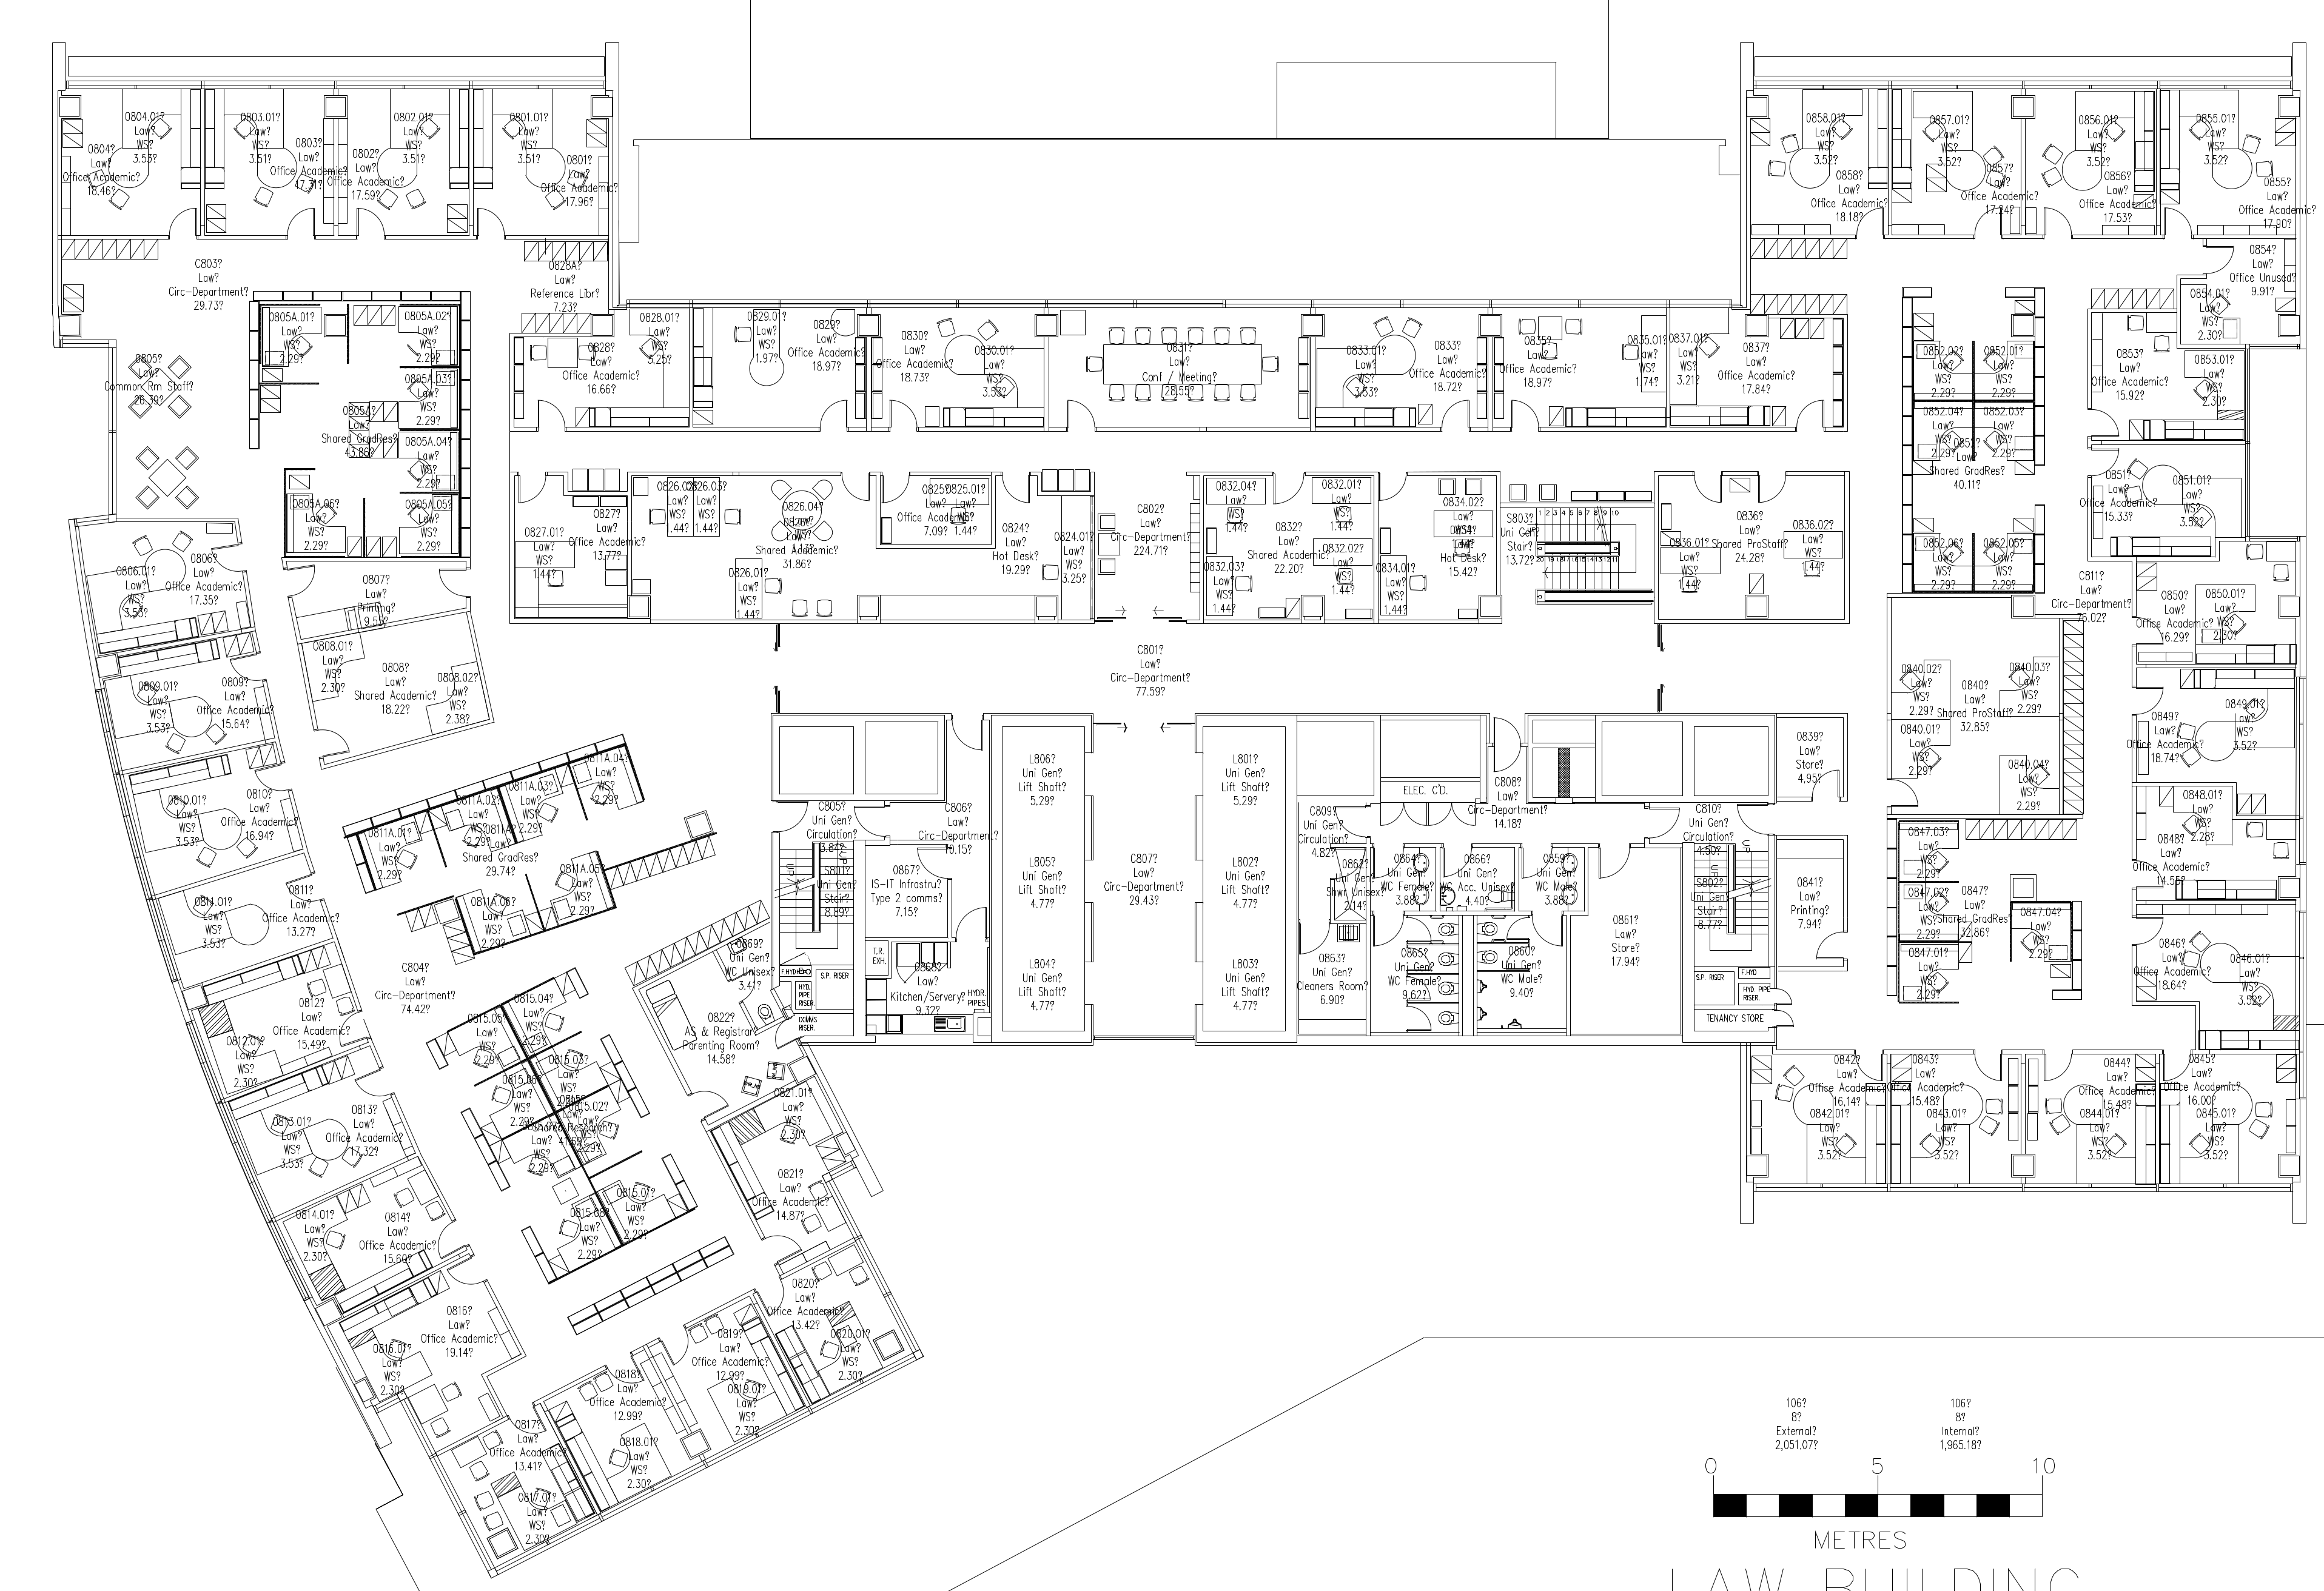door: (761, 1229, 807, 1266), (505, 1402, 547, 1441), (602, 1351, 645, 1390), (685, 1086, 729, 1121), (445, 1252, 486, 1289), (657, 1324, 690, 1369), (433, 1222, 466, 1263), (334, 1012, 369, 1047), (849, 803, 885, 839), (913, 846, 948, 881), (166, 205, 200, 240), (283, 207, 316, 242), (1000, 471, 1033, 507), (208, 540, 242, 576), (230, 653, 263, 689), (316, 724, 350, 759), (254, 763, 288, 798), (283, 871, 316, 906), (355, 1067, 389, 1102), (768, 1019, 804, 1052), (954, 906, 989, 939), (948, 720, 984, 754), (1437, 397, 1471, 433), (1508, 397, 1542, 433), (1690, 471, 1724, 507), (1529, 915, 1563, 950), (1648, 805, 1681, 841), (816, 399, 849, 433), (775, 800, 809, 833), (1792, 397, 1826, 431), (1370, 915, 1404, 948), (353, 205, 385, 240), (516, 471, 547, 507), (839, 470, 871, 505), (887, 399, 918, 434), (1065, 397, 1097, 433), (286, 562, 318, 597), (1273, 471, 1305, 507), (1379, 470, 1411, 505), (1757, 473, 1789, 509), (1332, 803, 1363, 839), (1300, 922, 1332, 957), (1520, 846, 1552, 881), (1441, 846, 1473, 881), (1372, 846, 1404, 881), (1808, 768, 1840, 803), (1886, 779, 1921, 811), (1810, 931, 1845, 962), (475, 207, 507, 240), (535, 399, 567, 433), (879, 471, 911, 505), (434, 567, 466, 600), (1598, 848, 1630, 881), (1736, 803, 1768, 837), (2041, 1052, 2075, 1084), (2132, 915, 2165, 946), (2133, 685, 2167, 717), (2087, 406, 2121, 438), (2041, 205, 2075, 237), (1852, 205, 1886, 237), (2206, 244, 2239, 275), (1971, 1054, 2004, 1084), (2160, 1054, 2193, 1084), (2132, 860, 2165, 890), (2132, 616, 2165, 646), (2089, 447, 2123, 477), (2162, 207, 2195, 237), (1852, 1052, 1884, 1082), (1974, 205, 2006, 235), (1404, 1005, 1434, 1031), (1775, 987, 1798, 1007), (1775, 1008, 1798, 1028)
